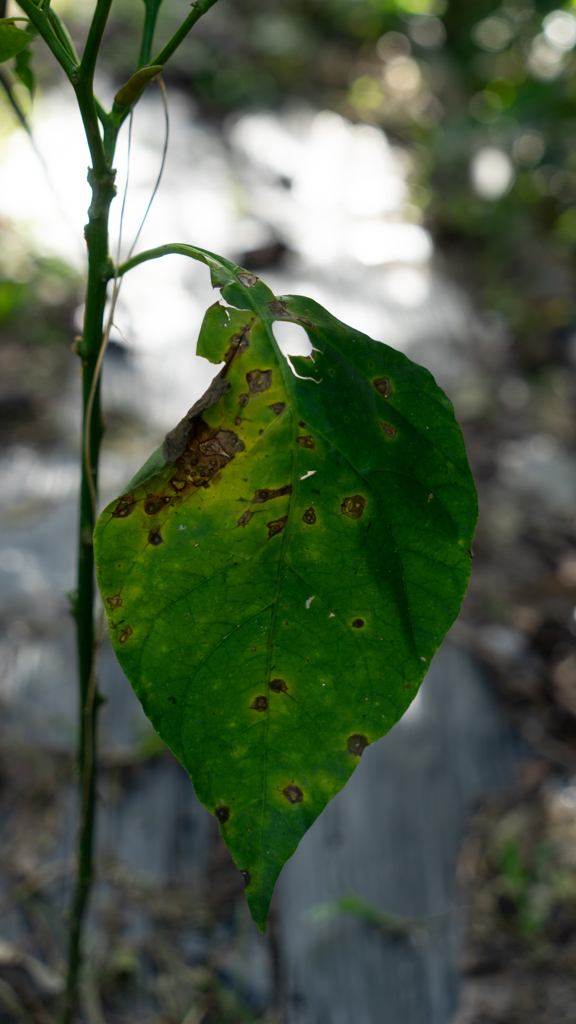Canker: (103, 382, 236, 549)
frog-eye leafspot: (226, 470, 380, 557), (242, 362, 326, 449), (95, 573, 142, 660), (364, 369, 411, 452), (236, 669, 298, 716), (202, 791, 243, 839), (272, 770, 311, 815), (335, 723, 372, 763), (233, 859, 254, 892), (346, 613, 370, 634)
